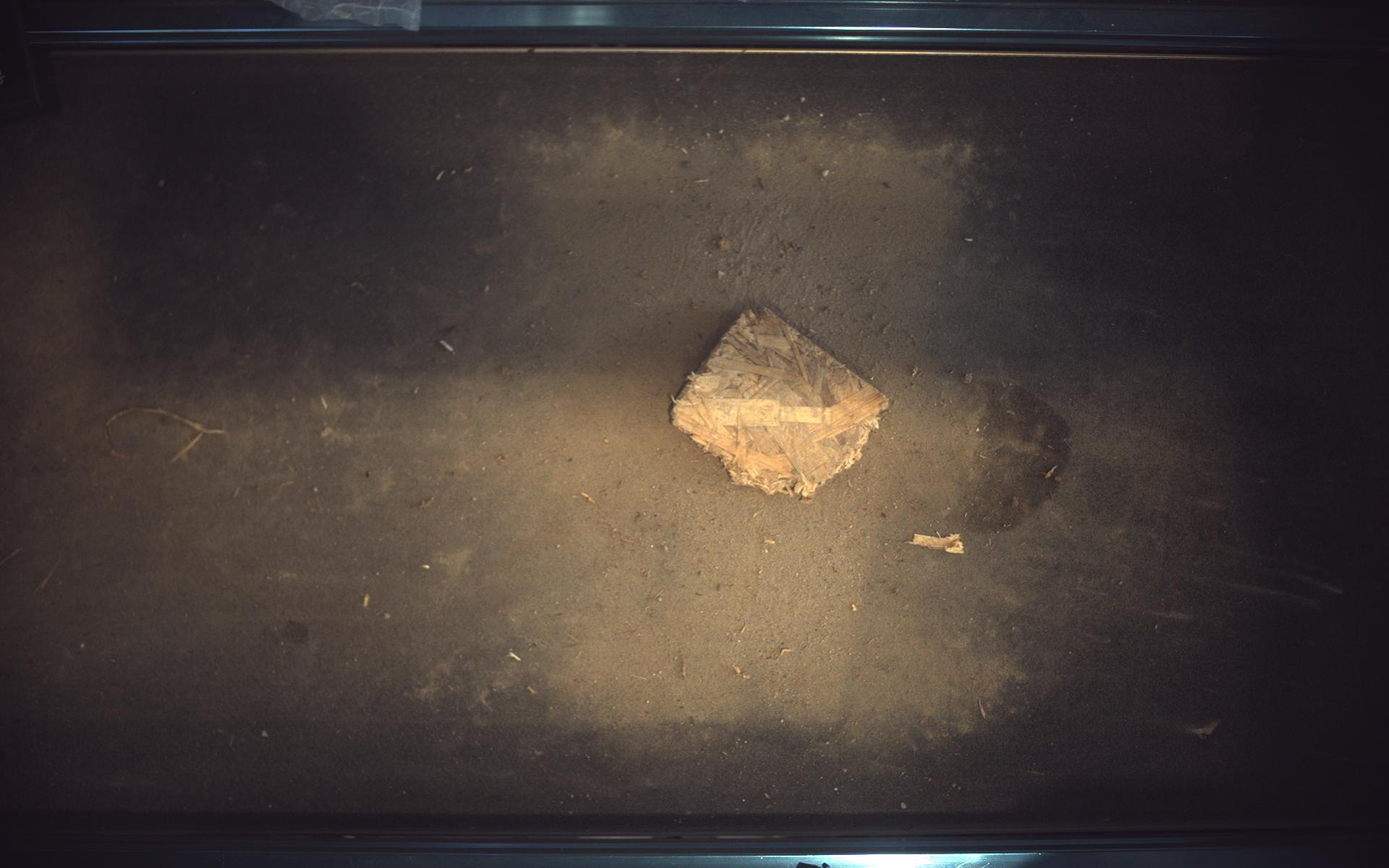wood: (673, 309, 890, 498)
